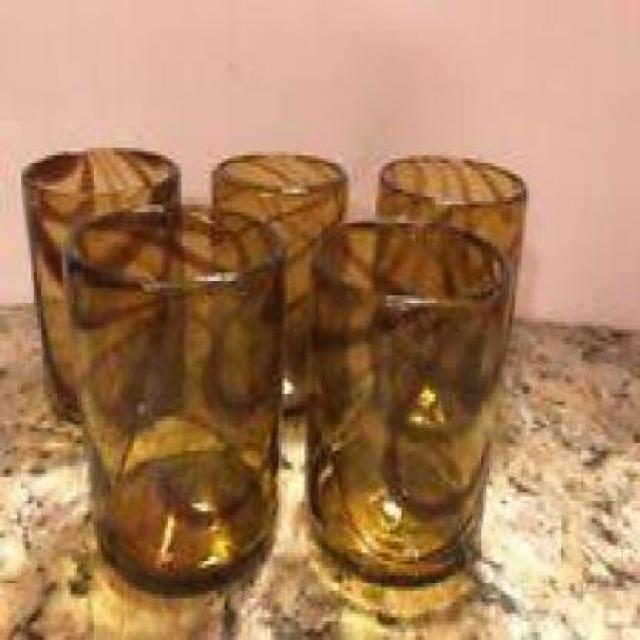kaca: (60, 202, 278, 588), (305, 217, 506, 595), (17, 144, 185, 413), (372, 151, 526, 409), (210, 152, 344, 414)
